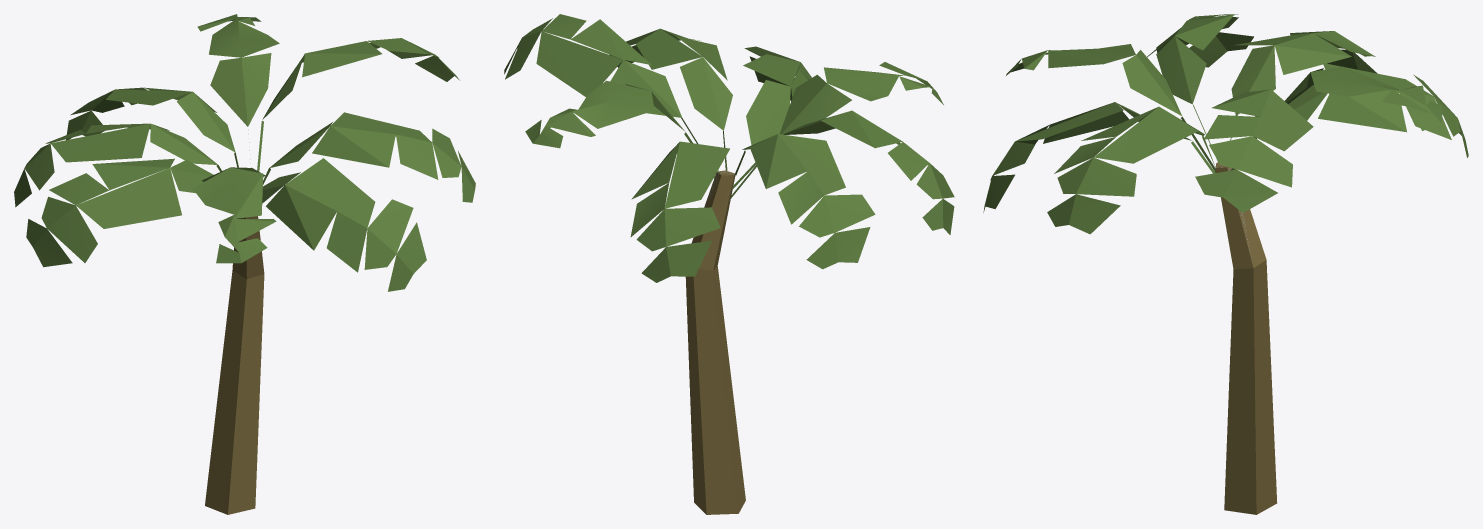
The model's file is Tree_Palm_02.fbx.
The picture shows the model from 3 angles, left to right: view 1: azimuth 30°, elevation 25°; view 2: azimuth 150°, elevation 25°; view 3: azimuth 270°, elevation 25°; orthographic projection. The views are drawn at different scales.
Parts seen in each view (by area): view 1: Model; view 2: Model; view 3: Model.
Boxes of the visible parts, x1,y1,x2,y2 form: Model: [14, 14, 475, 514]; Model: [504, 14, 954, 514]; Model: [983, 14, 1468, 514].
Bounding box in the file's own units: 564 × 549 × 518.
